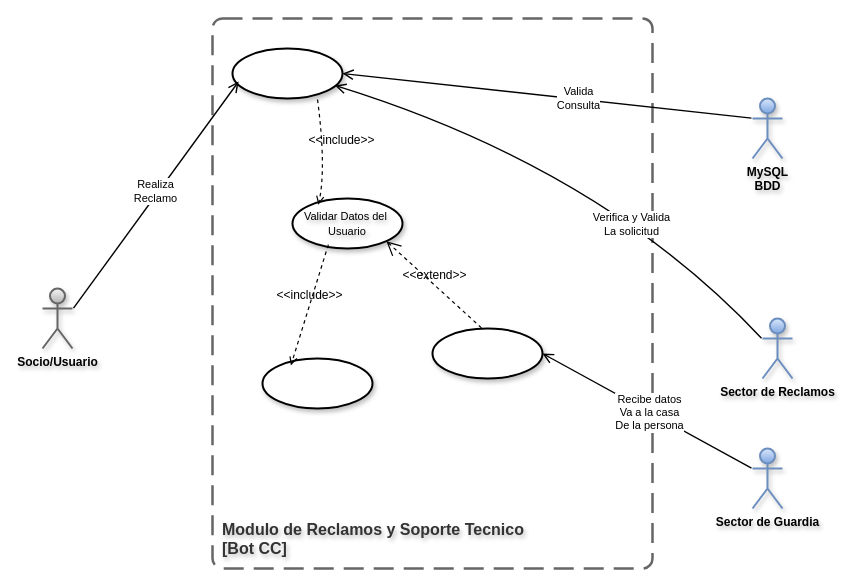
Some shapes in this 852 by 587 pixel diagram are drawn without their labels. The shapes that lost their labels are listed below. From the top down, each one's centre as x and y in pixels, then its label:
At (x=288, y=74): "Registrar Reclamo Tecnico".
At (x=488, y=354): "Generar Aviso Interno Del reclamo".
At (x=318, y=384): "Consultar Estado del Reclamo".
